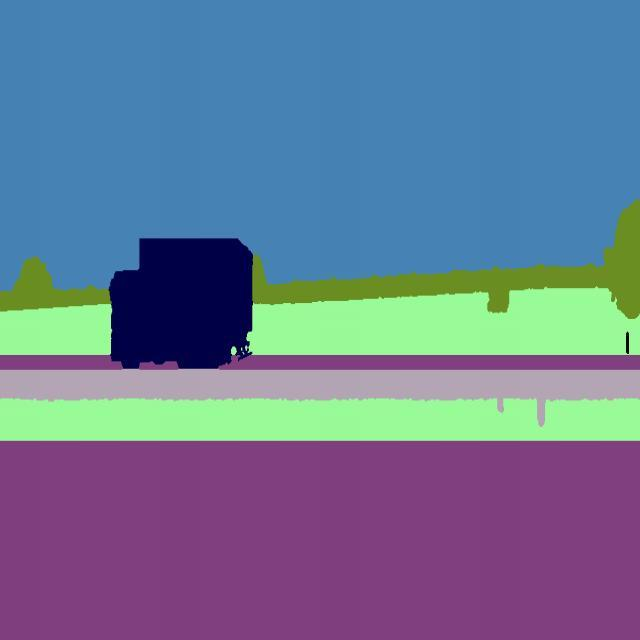safe: (108, 232, 258, 374)
